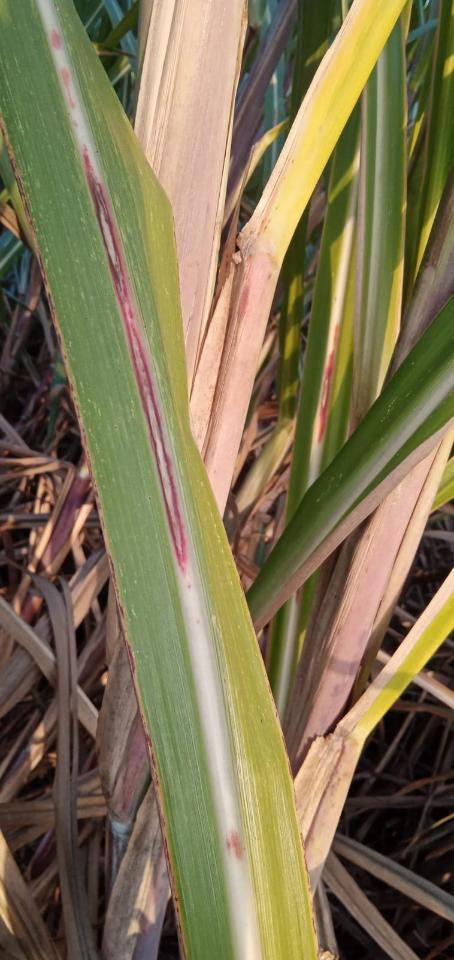RedRot: (50, 27, 193, 591), (221, 826, 247, 863)
